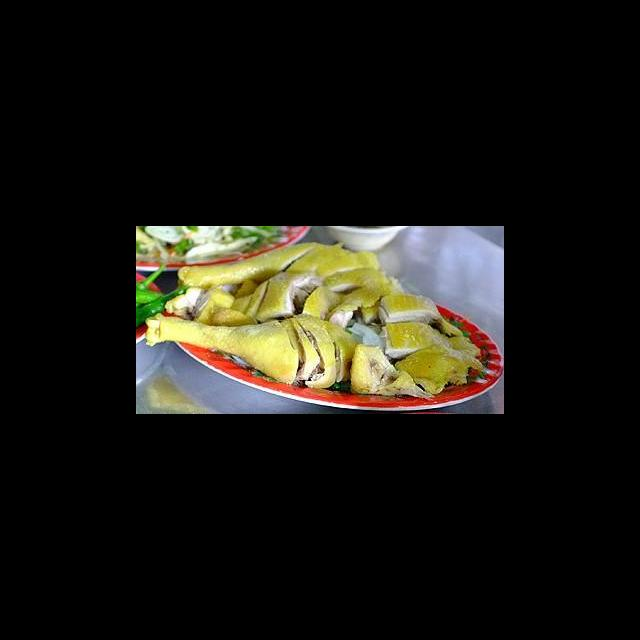rau ram: (137, 260, 191, 331)
thit ga: (142, 311, 361, 390), (379, 318, 487, 396), (174, 239, 323, 291), (162, 278, 270, 331), (346, 342, 438, 404), (323, 265, 406, 326), (242, 268, 328, 326), (277, 238, 382, 281), (375, 293, 466, 341), (298, 283, 363, 332)
